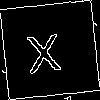X: (24, 24, 62, 74)
